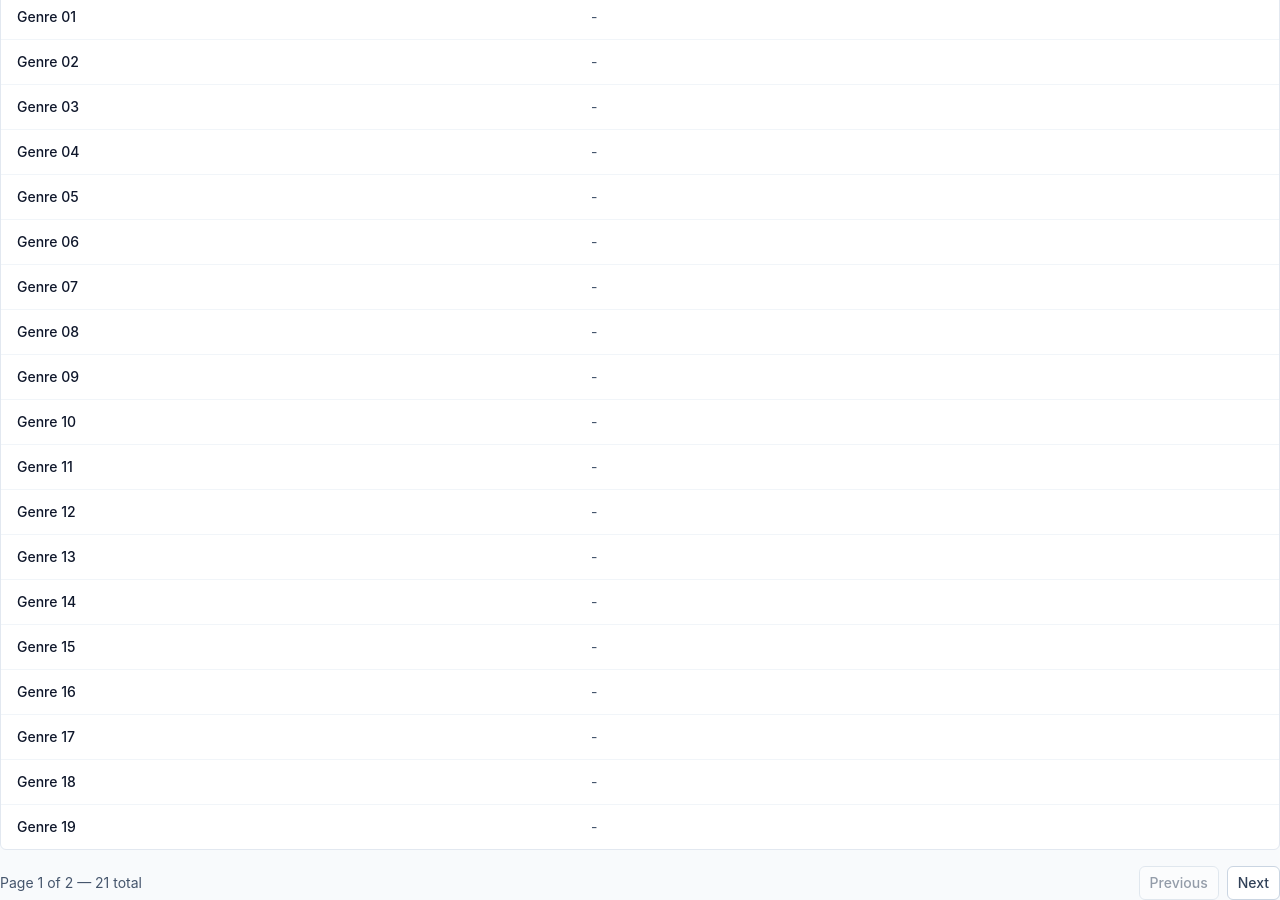
it: List behaviour › pages through a result set larger than one page
This screenshot has width=1280, height=900.
(page scrolled)
Expected: the text "Page 1 of 2 — 21 total" is shown, [0,873,142,893]
Click the button "Next".
click(1253, 883)  # box [1227,866,1279,899]
(page scrolled)
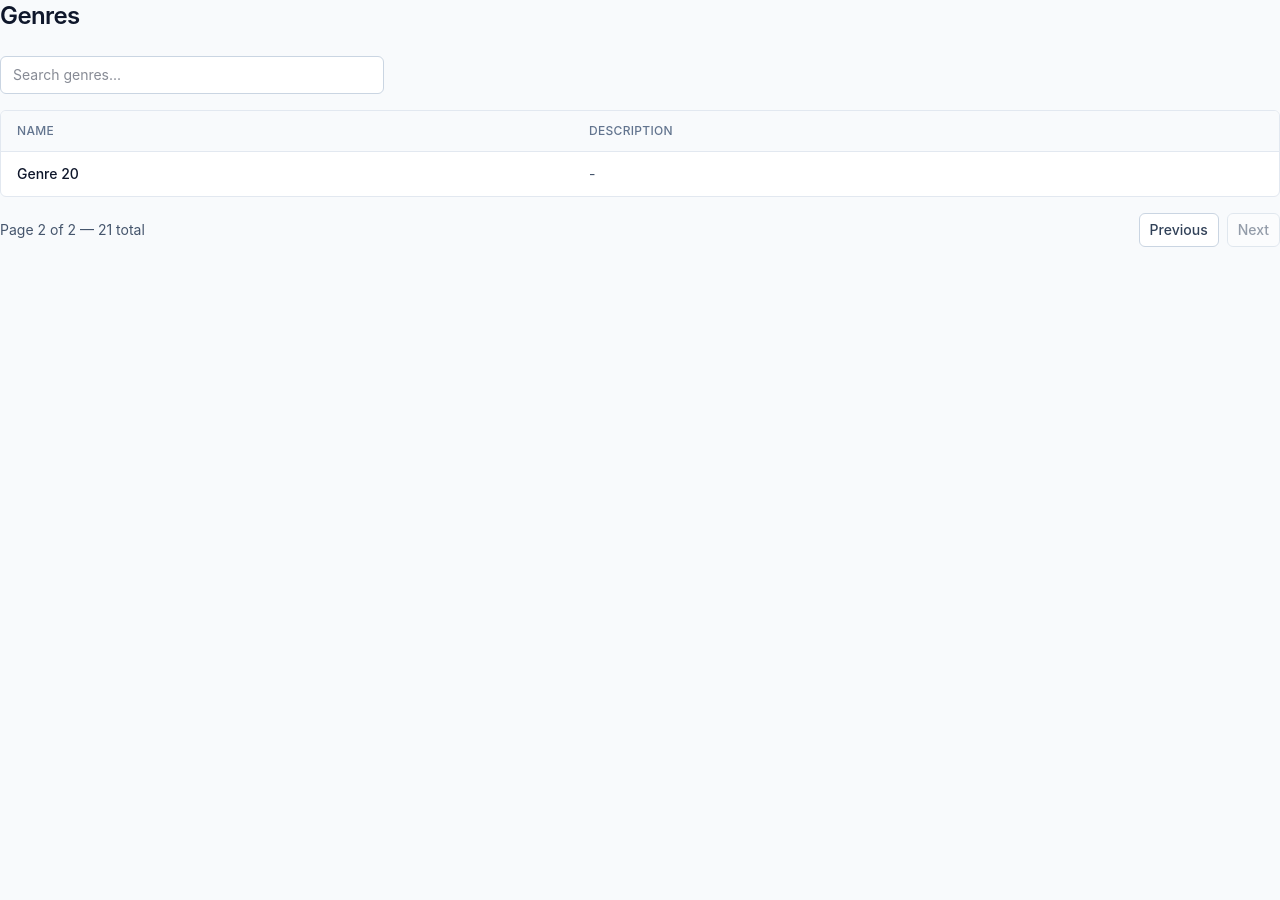
Now the text "Page 2 of 2 — 21 total" is shown, box [0,220,145,240]
Now the link "Genre 20" is shown, box [17,165,79,182]
